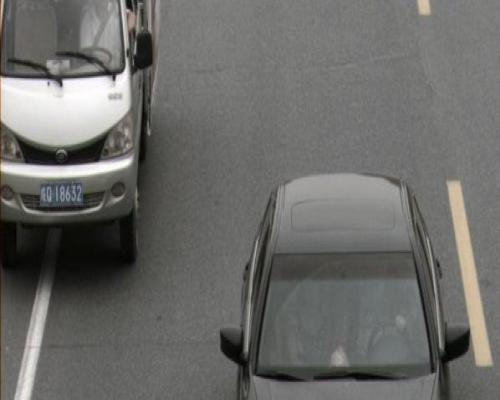Carplate: (37, 177, 86, 211)
